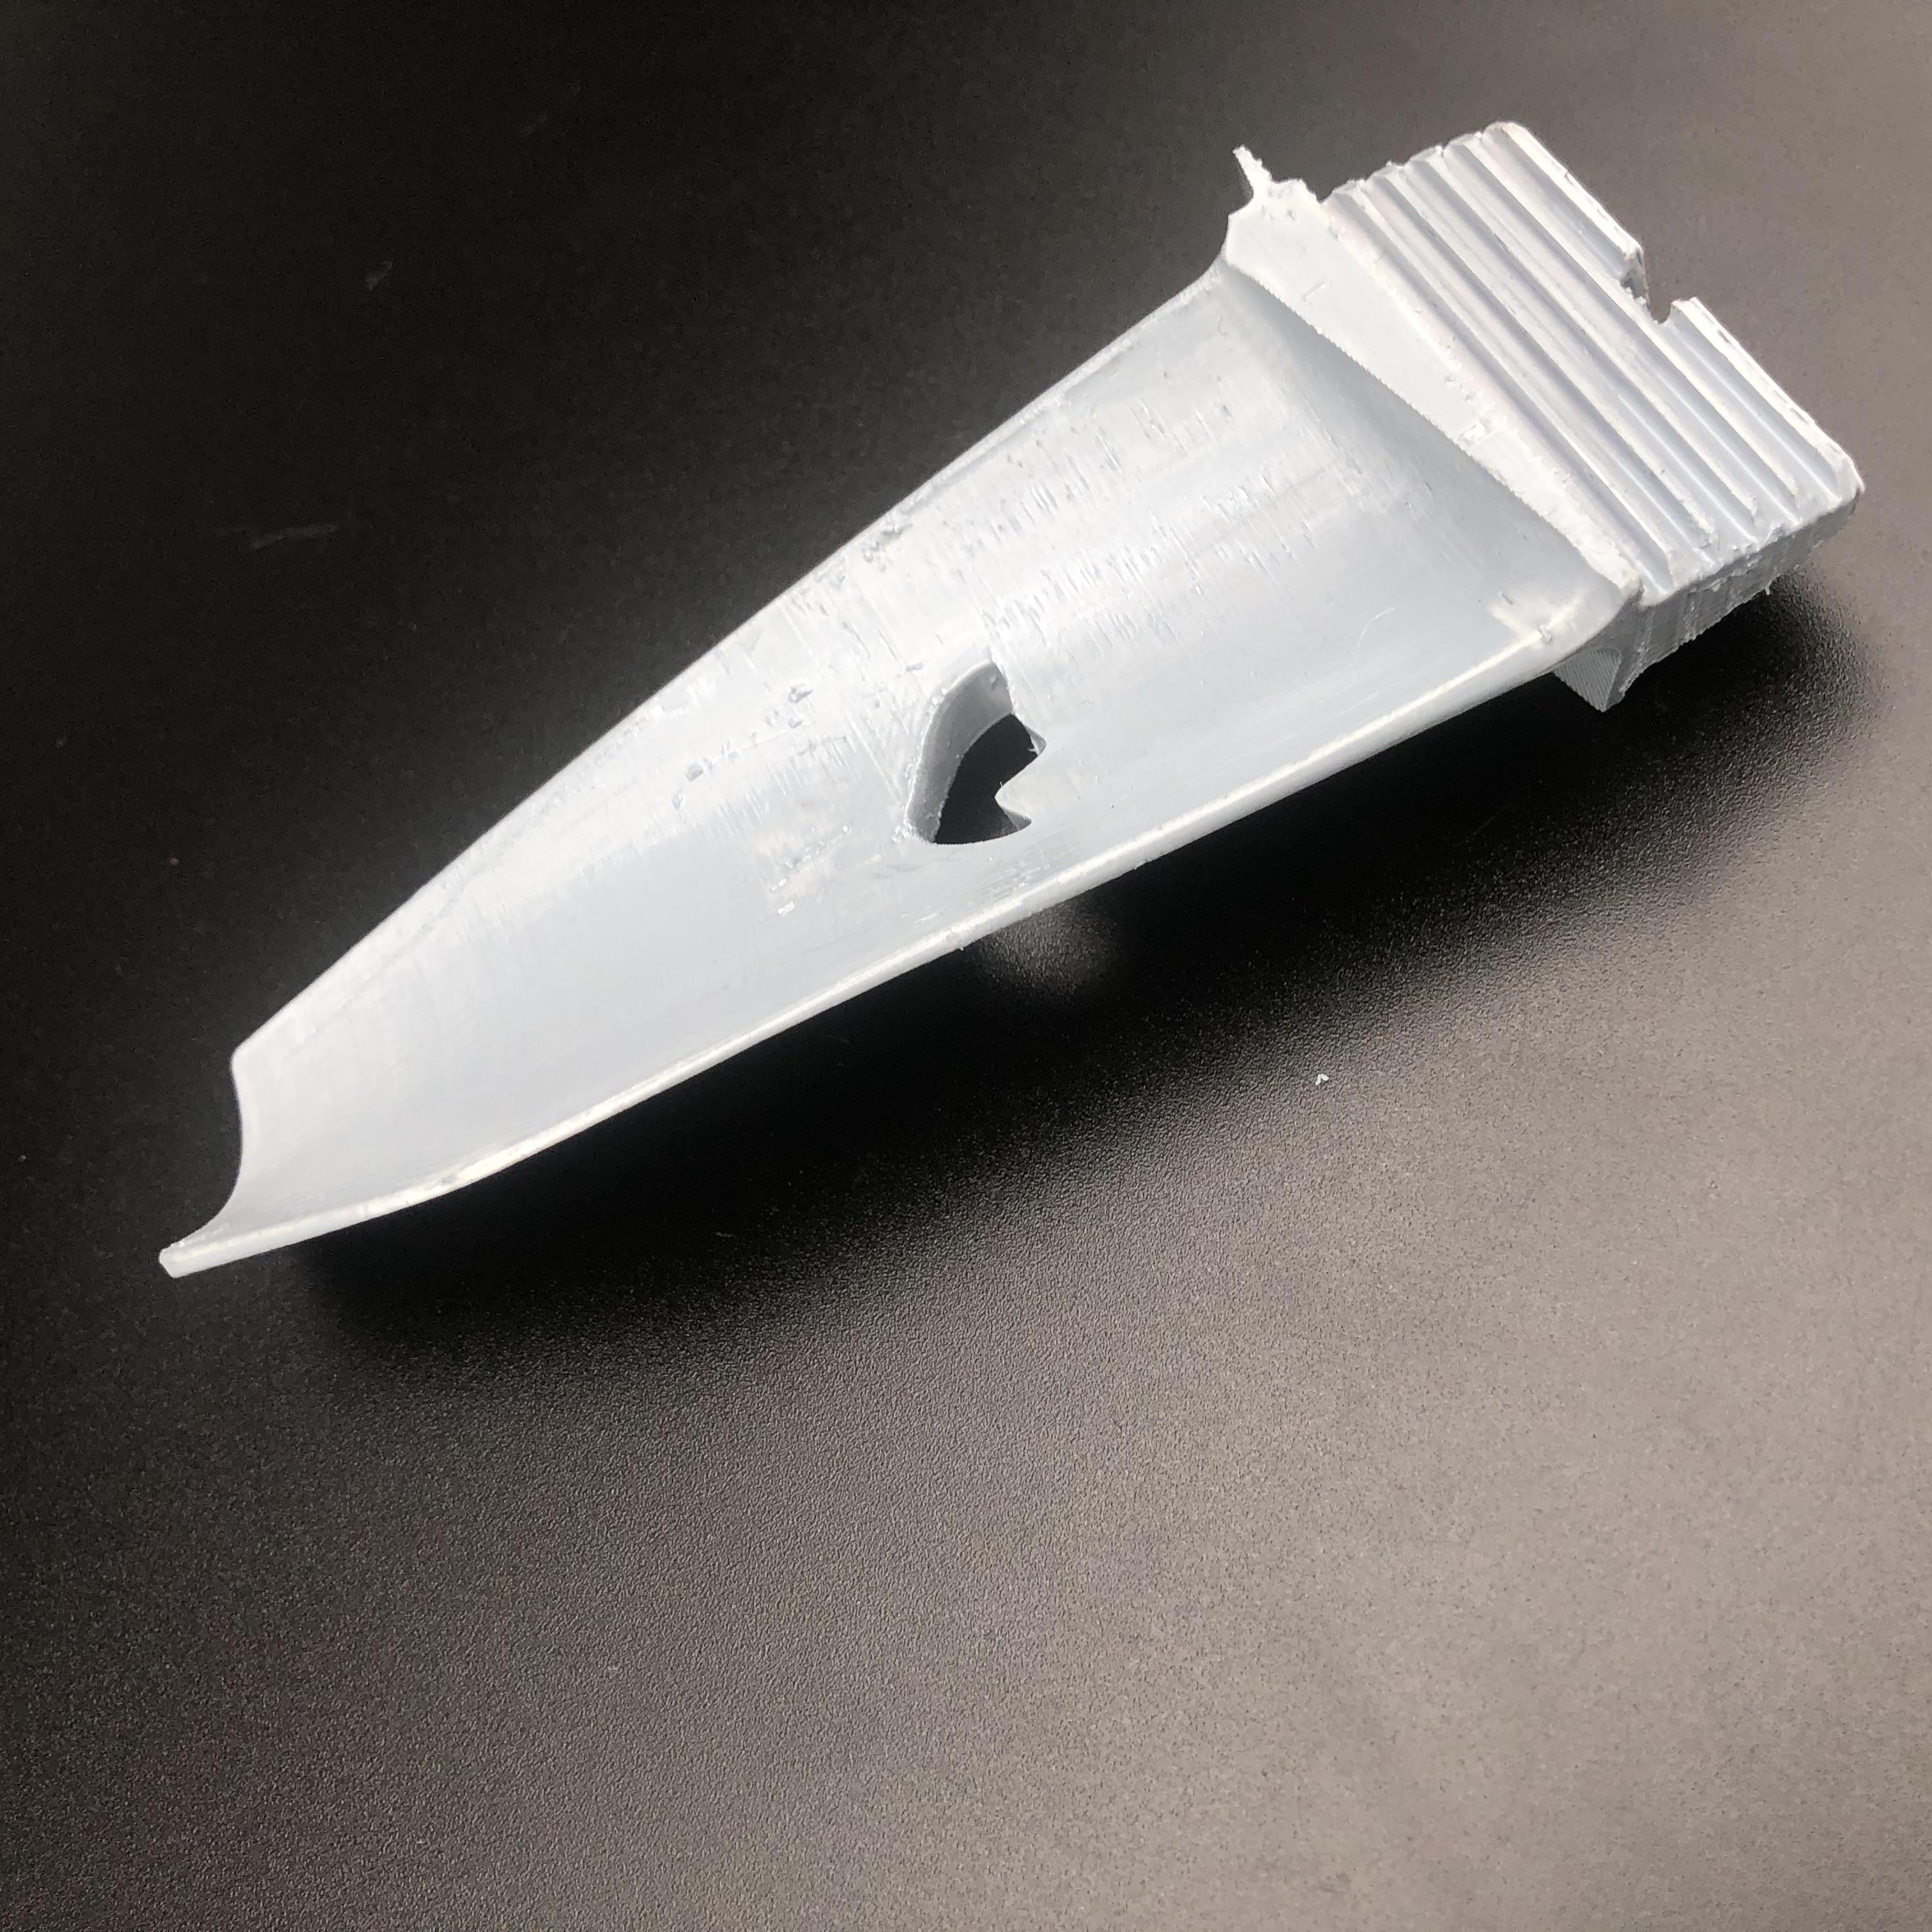breakdown: (890, 653, 1062, 862)
